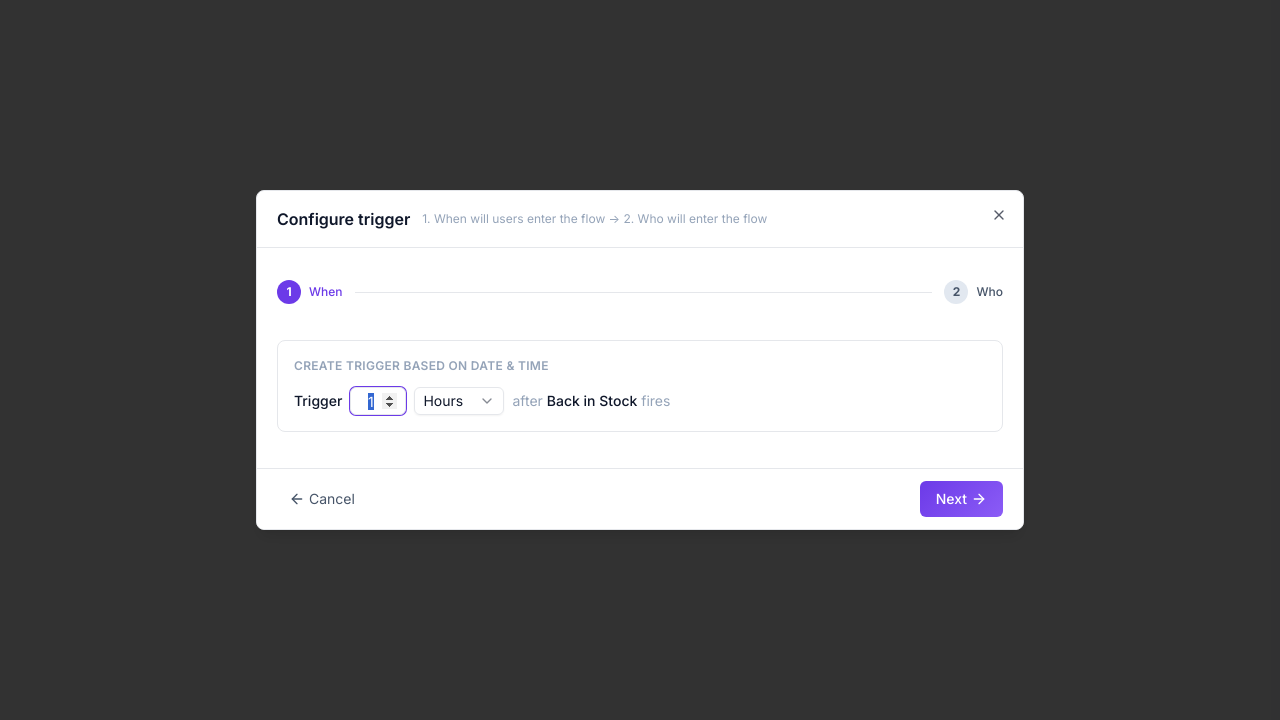
Test: StartTriggerWizard — Date and time section › still shows the Who-enters-the-flow step for Back in Stock, then finishes with kind: event_offset
This screenshot has width=1280, height=720.
Earlier steps of the test are not shown.
Later steps or results of the test are not shown.
Step 1. Click the button with test id "trigger-wizard-next" → (961, 499), box [920,481,1003,517]
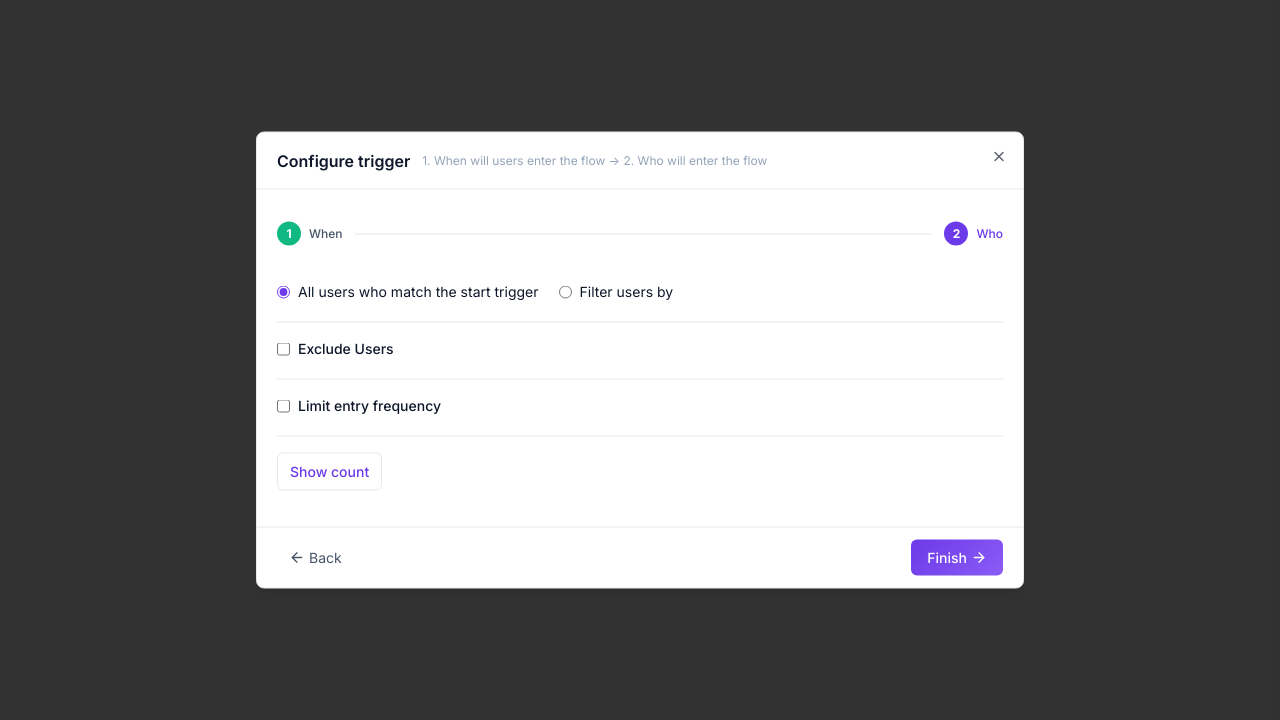
Expected: the radio button with test id "audience-filter-users" is shown, [558,285,572,298]
